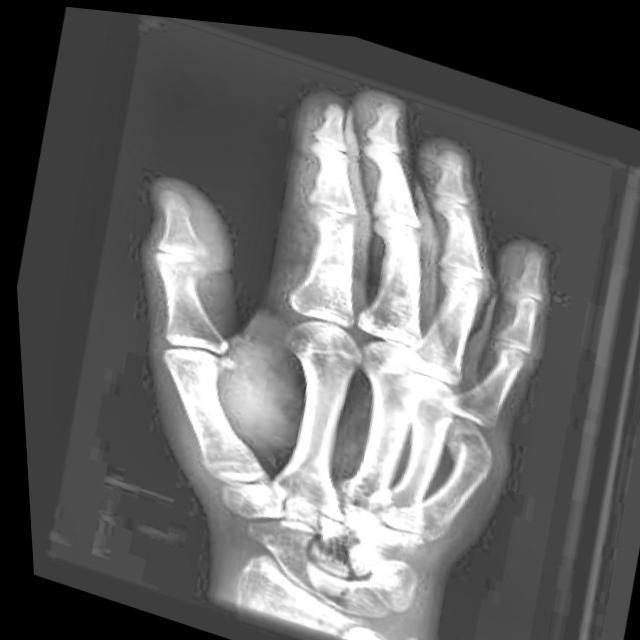fracture: (435, 423, 486, 466)
